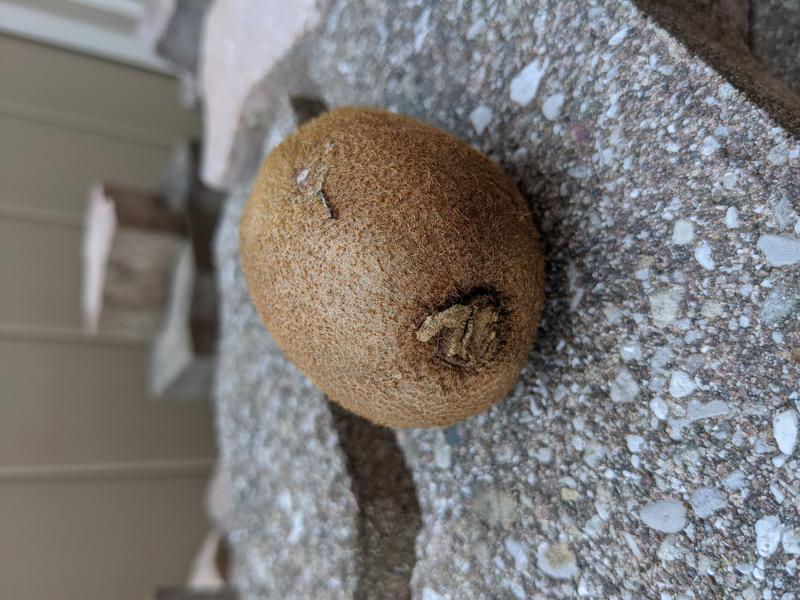kiwi: (238, 107, 547, 429)
